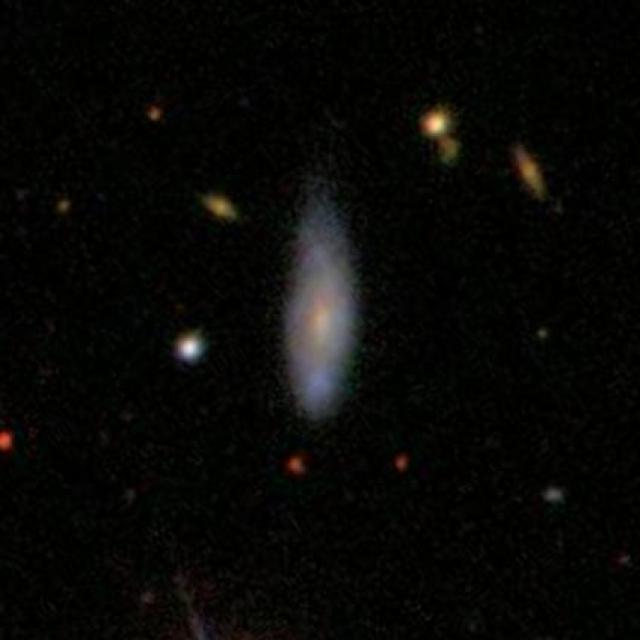galaxy: (278, 175, 373, 434), (504, 139, 556, 211), (167, 323, 216, 371), (416, 99, 463, 147), (198, 193, 245, 226), (536, 483, 570, 510), (285, 449, 311, 481), (436, 139, 465, 166), (390, 450, 415, 478), (144, 104, 170, 129), (55, 195, 75, 220), (530, 324, 554, 342), (1, 428, 13, 451)
